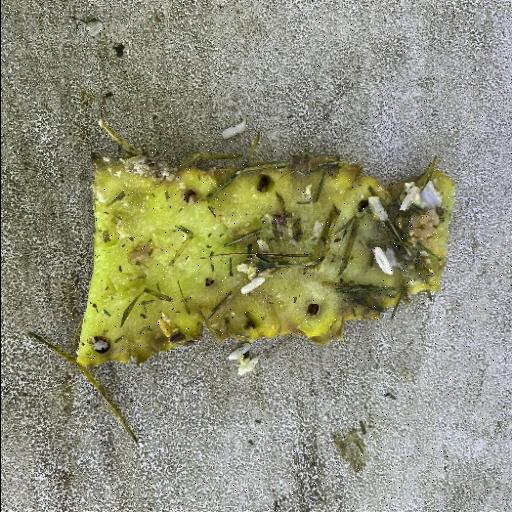Waste: (74, 136, 456, 372)
